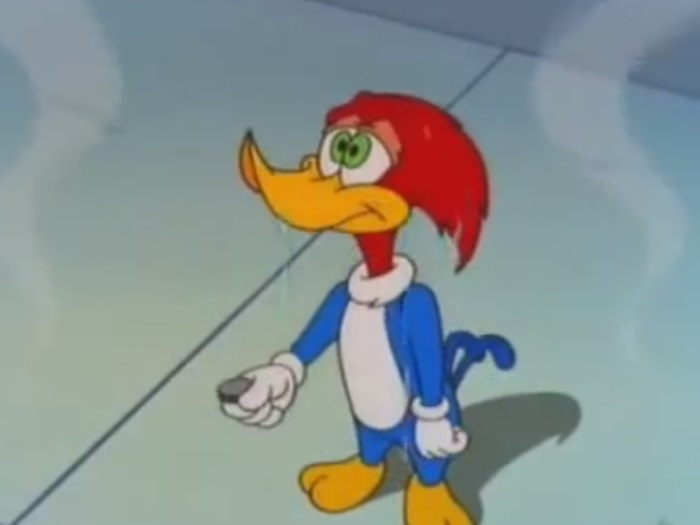picapau: (213, 62, 520, 525)
